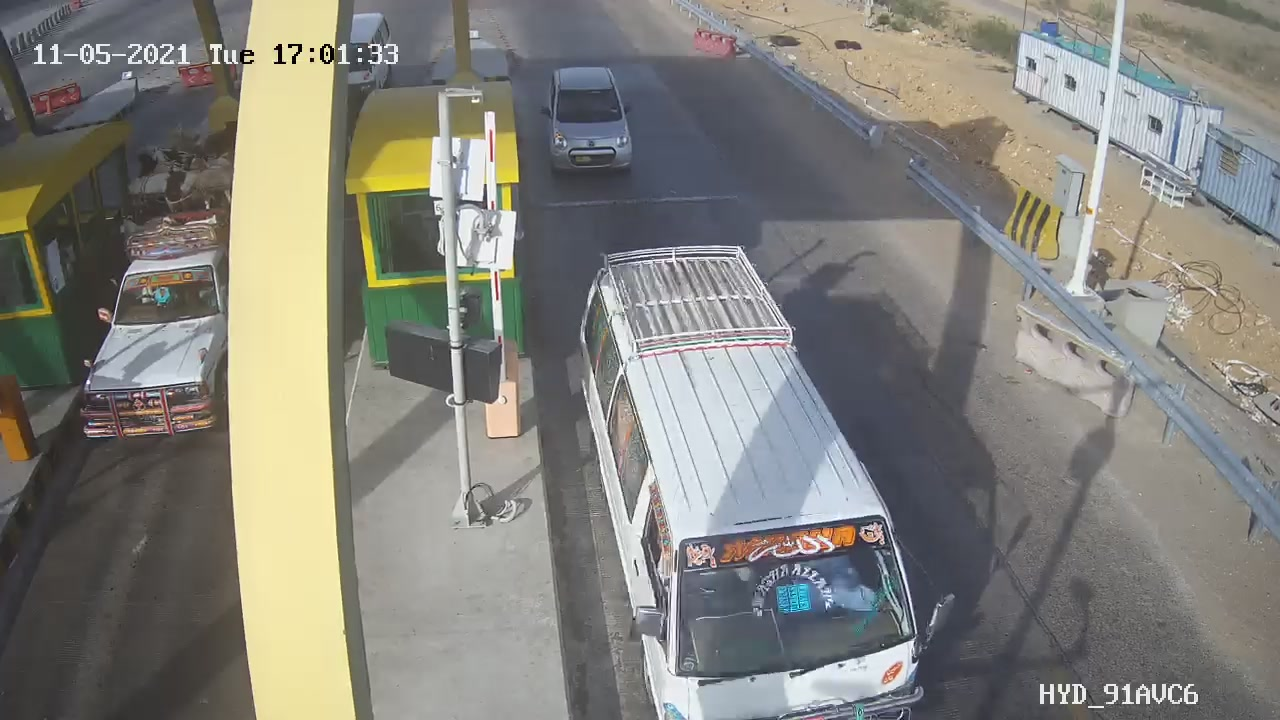F1: (526, 48, 659, 190)
